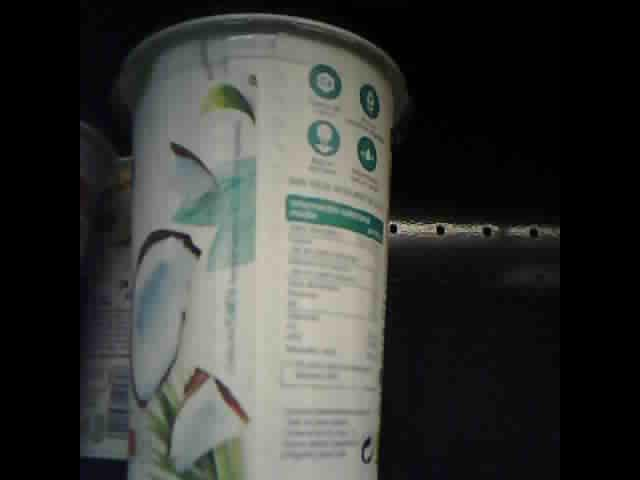alpro: (118, 13, 408, 480), (80, 116, 142, 460)
